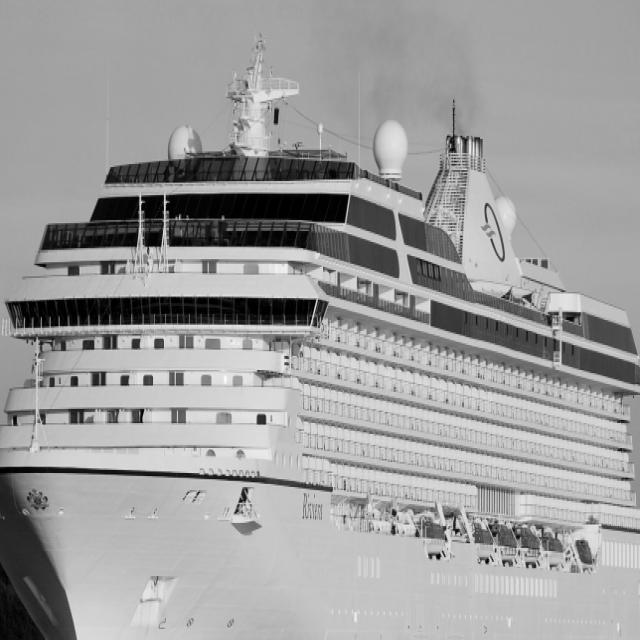cruises: (1, 32, 640, 640)
